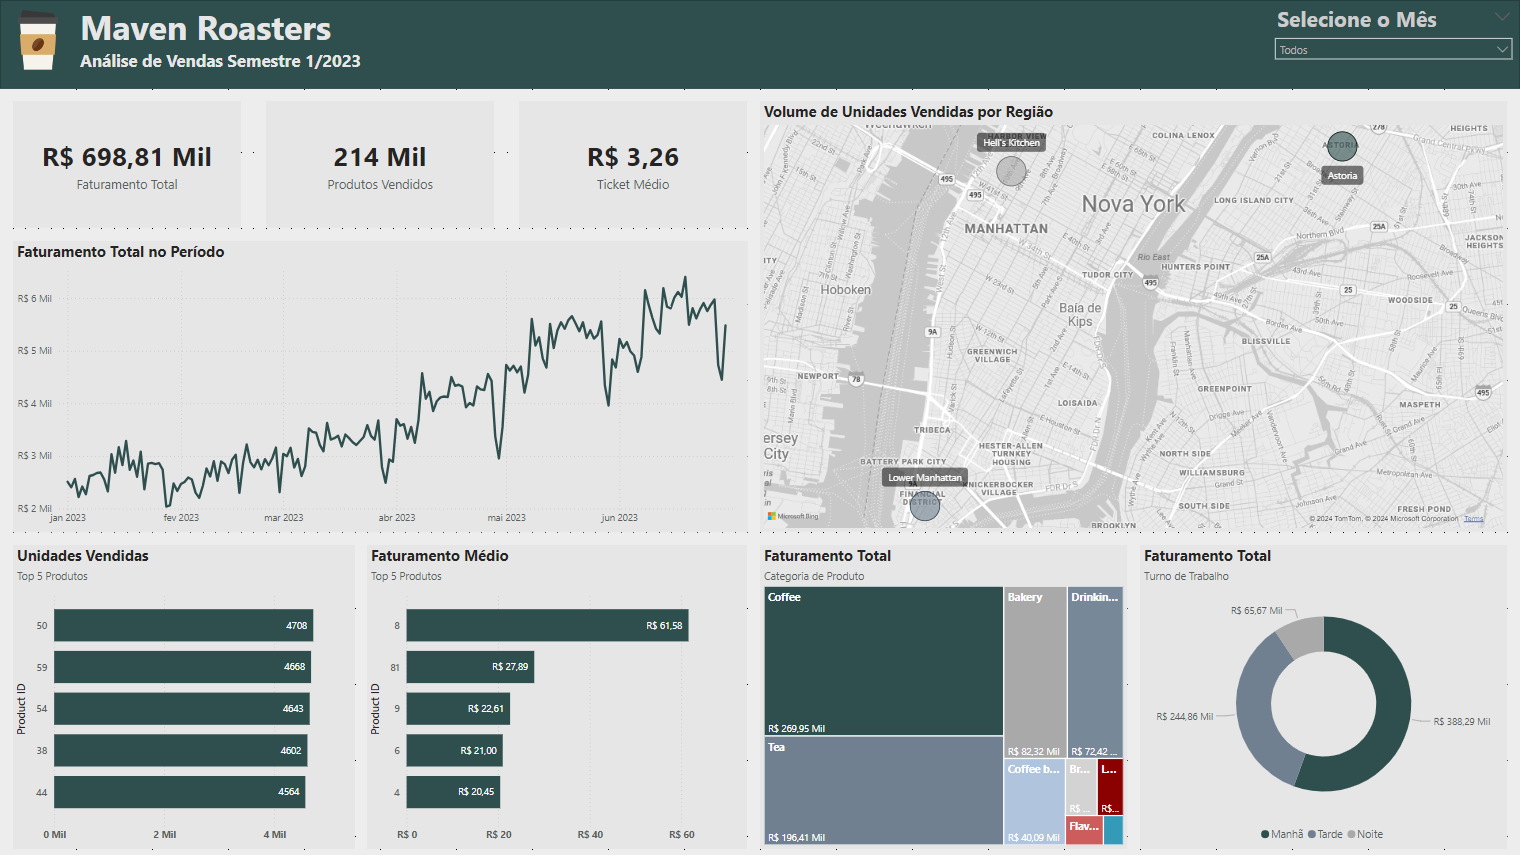

The dashboard page shown, as its layout file describes it:
{"tool":"powerbi","page":{"name":"Dashboard","canvas":[1920,1080],"ordinal":0},"visuals":[{"type":"shape","box":[0,0,1920,112],"z":0},{"type":"card","title":"Faturamento Total","fields":{"Values":["Medidas.faturamentoTotal"]},"box":[16,128,288,160],"z":1000},{"type":"card","fields":{"Values":["Medidas.ticketMedio"]},"box":[656,128,288,160],"z":2000},{"type":"card","fields":{"Values":["Medidas.unidadesVendidas"]},"box":[336,128,288,160],"z":3000},{"type":"clusteredBarChart","title":"Unidades Vendidas","fields":{"Category":["Transactions.product_id"],"Y":["Medidas.unidadesVendidas"]},"box":[16,688,432,384],"z":4000},{"type":"clusteredBarChart","title":"Faturamento Médio","fields":{"Y":["Medidas.faturamentoMedio"],"Category":["Transactions.product_id"]},"box":[464,688,480,384],"z":5000},{"type":"lineChart","title":"Faturamento Total no Período","fields":{"Y":["Medidas.faturamentoTotal"],"Category":["Transactions.transaction_date.Variation.Hierarquia de datas.Ano","Transactions.transaction_date.Variation.Hierarquia de datas.Trimestre","Transactions.transaction_date.Variation.Hierarquia de datas.Mês","Transactions.transaction_date.Variation.Hierarquia de datas.Dia"]},"box":[16,304,928,368],"z":6000},{"type":"donutChart","title":"Faturamento Total","fields":{"Category":["Transactions.turnoCompra"],"Y":["Medidas.faturamentoTotal"]},"box":[1440,688,464,384],"z":7000},{"type":"map","title":"Volume de Unidades Vendidas por Região","fields":{"Category":["Transactions.store_location"],"Size":["Medidas.unidadesVendidas"],"Series":["Transactions.store_id"]},"box":[960,128,944,544],"z":8000},{"type":"treemap","title":"Faturamento Total","fields":{"Group":["Transactions.product_category"],"Values":["Medidas.faturamentoTotal"]},"box":[960,688,464,384],"z":9000},{"type":"slicer","fields":{"Values":["Transactions.transaction_date.Variation.Hierarquia de datas.Mês"]},"box":[1600,0,320,112],"z":10000},{"type":"textbox","box":[96,0,624,112],"z":11000},{"type":"image","box":[0,0,96,96],"z":12000}]}

Visuals, with their boxes in screenshot pixels (x1, y1, x2, y2), scaled from the page's 1920x1080 canvas onto the 1520x855 screenshot:
shape: 0 0 1519 89
"Faturamento Total" card: 13 101 241 228
card - Medidas.ticketMedio: 519 101 747 228
card - Medidas.unidadesVendidas: 266 101 494 228
"Unidades Vendidas" clusteredBarChart: 13 545 355 849
"Faturamento Médio" clusteredBarChart: 367 545 747 849
"Faturamento Total no Período" lineChart: 13 241 747 532
"Faturamento Total" donutChart: 1140 545 1507 849
"Volume de Unidades Vendidas por Região" map: 760 101 1507 532
"Faturamento Total" treemap: 760 545 1127 849
slicer - Transactions.transaction_date.Variation.Hierarquia de datas.Mês: 1267 0 1519 89
textbox: 76 0 570 89
image: 0 0 76 76
